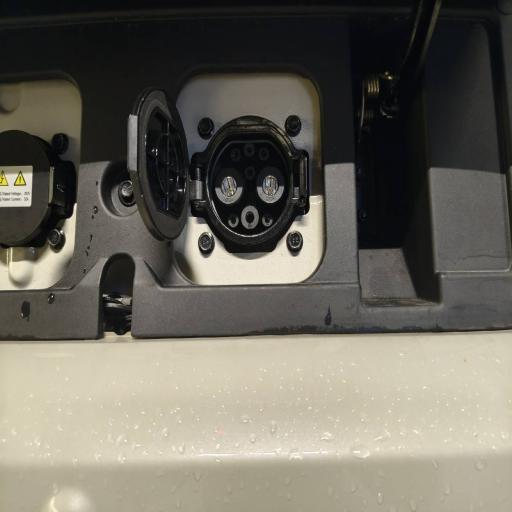DC_hole: (256, 163, 287, 205), (214, 164, 244, 204)
PE: (240, 204, 260, 230)
charging_port: (201, 123, 296, 248)
